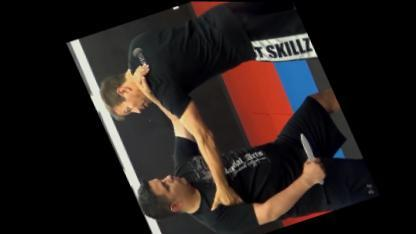knife: (288, 129, 326, 186)
